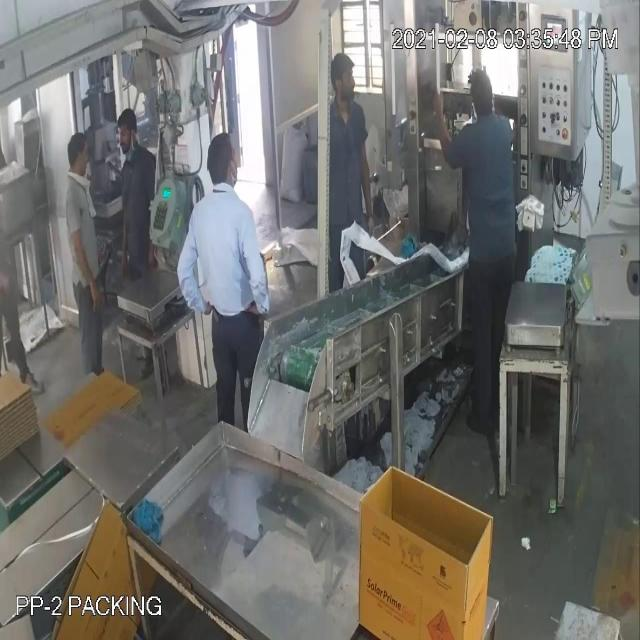No_Gloves: (33, 89, 442, 274)
